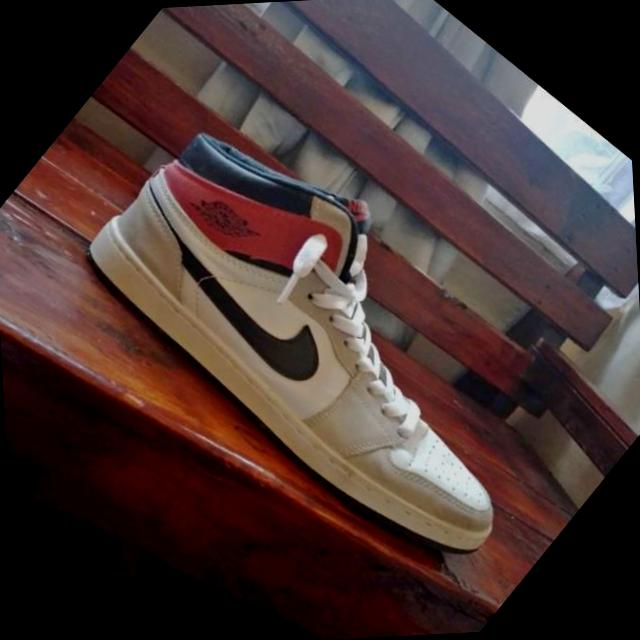nike_fake_jordan: (54, 64, 618, 611)
